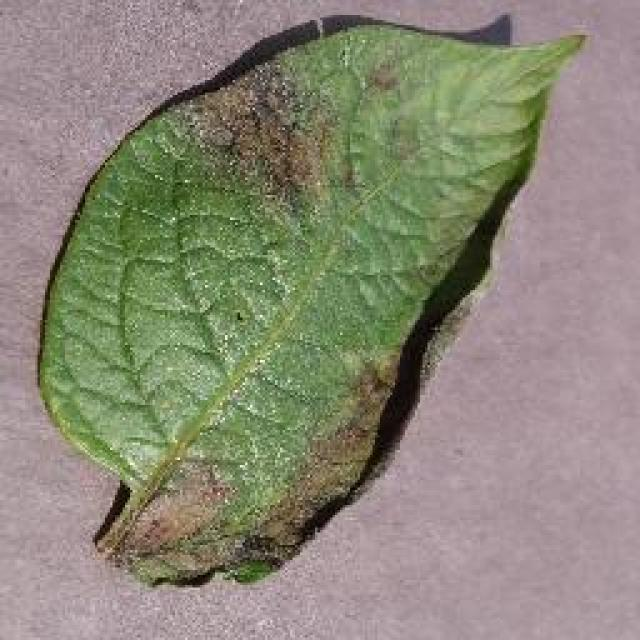late_blight: (32, 10, 590, 590)
